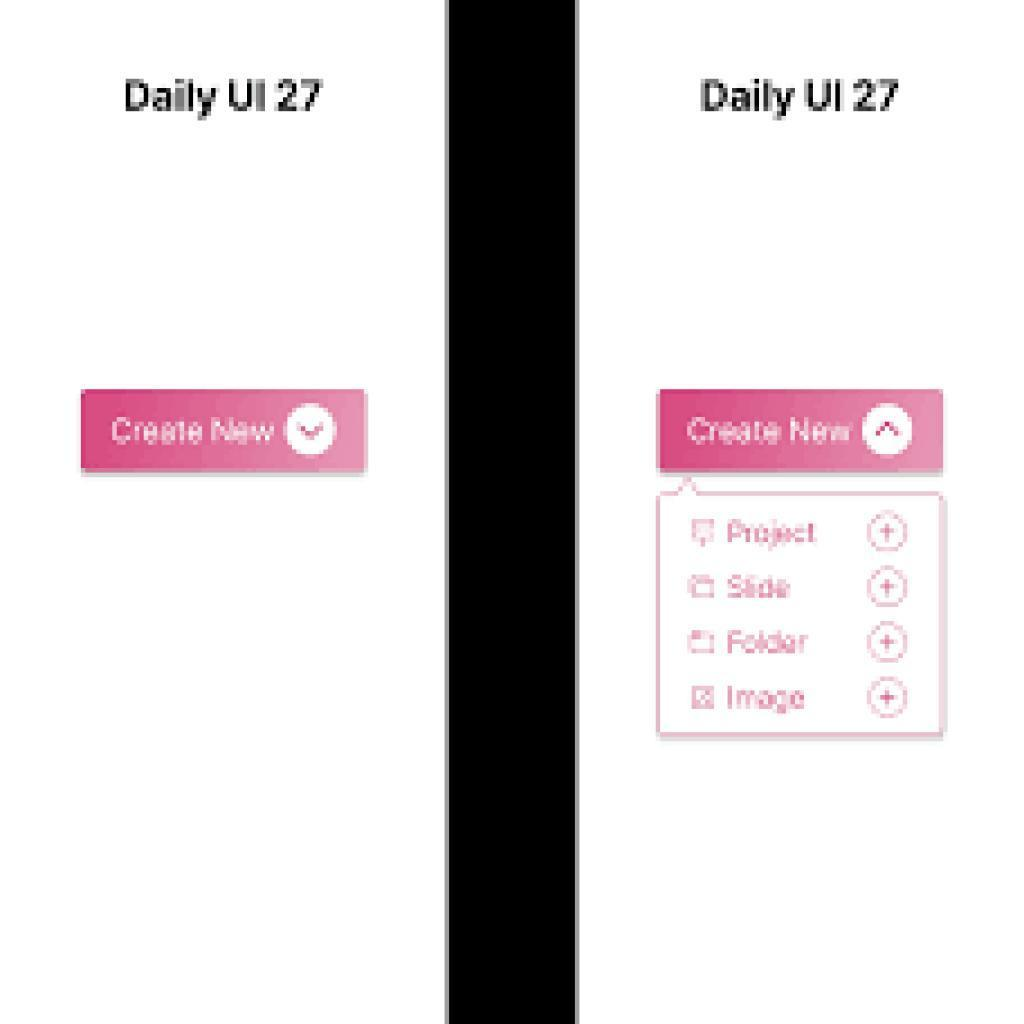dropdown: (658, 390, 946, 474), (81, 391, 368, 472)
icon: (865, 508, 913, 556), (868, 620, 911, 666), (870, 564, 911, 611), (867, 675, 910, 719), (690, 515, 719, 550), (688, 628, 718, 660), (690, 684, 721, 714), (687, 575, 720, 603)
